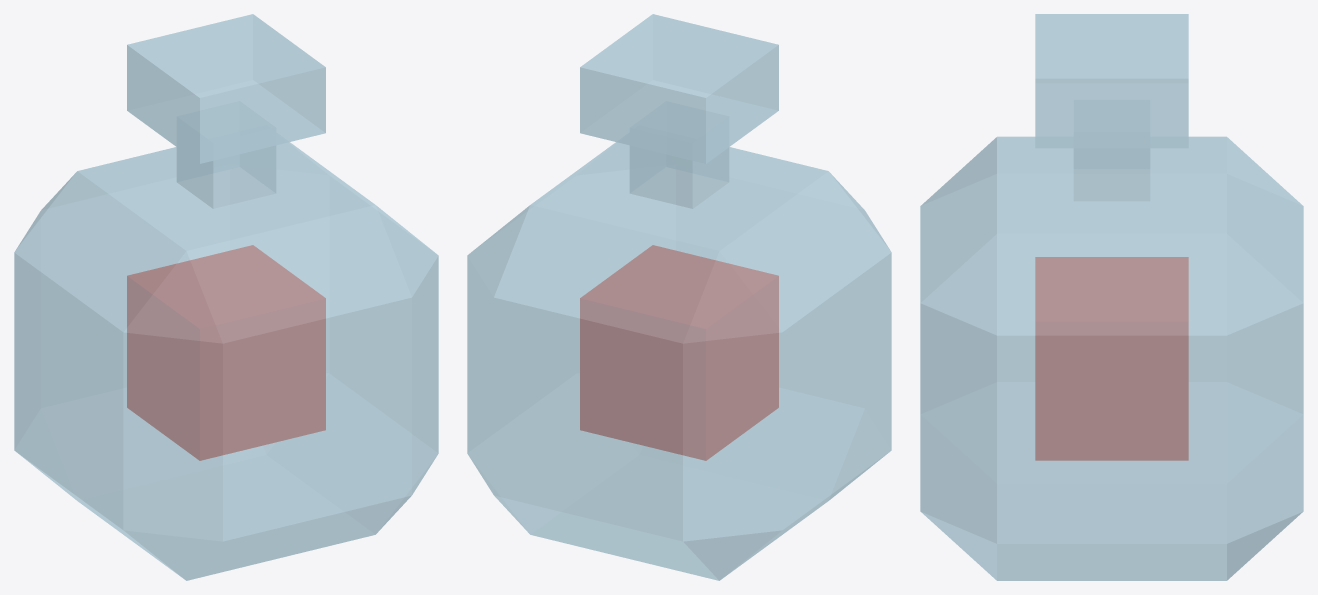
File: Bottle-col.gltf
3 renders of one model, left to right at view 1: azimuth 30°, elevation 25°; view 2: azimuth 150°, elevation 25°; view 3: azimuth 270°, elevation 25°, orthographic. The views are drawn at different scales.
Visible parts, largest first — view 1: Bottle-col; view 2: Bottle-col; view 3: Bottle-col.
Boxes of the visible parts, <box> form: Bottle-col: <box>14,14,438,580</box>; Bottle-col: <box>467,14,891,580</box>; Bottle-col: <box>920,14,1303,580</box>.
Size of the model in its own units: 5 by 7 by 5.
2 materials, 2 textured.
